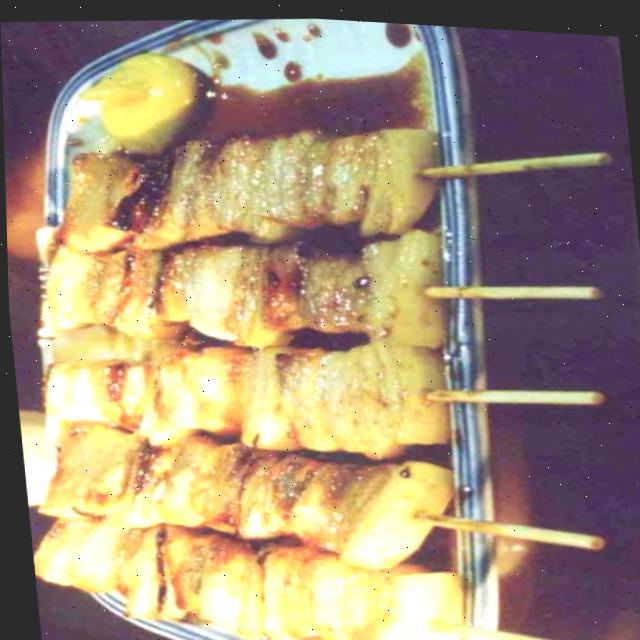烧串烤肉: (11, 333, 640, 640)
